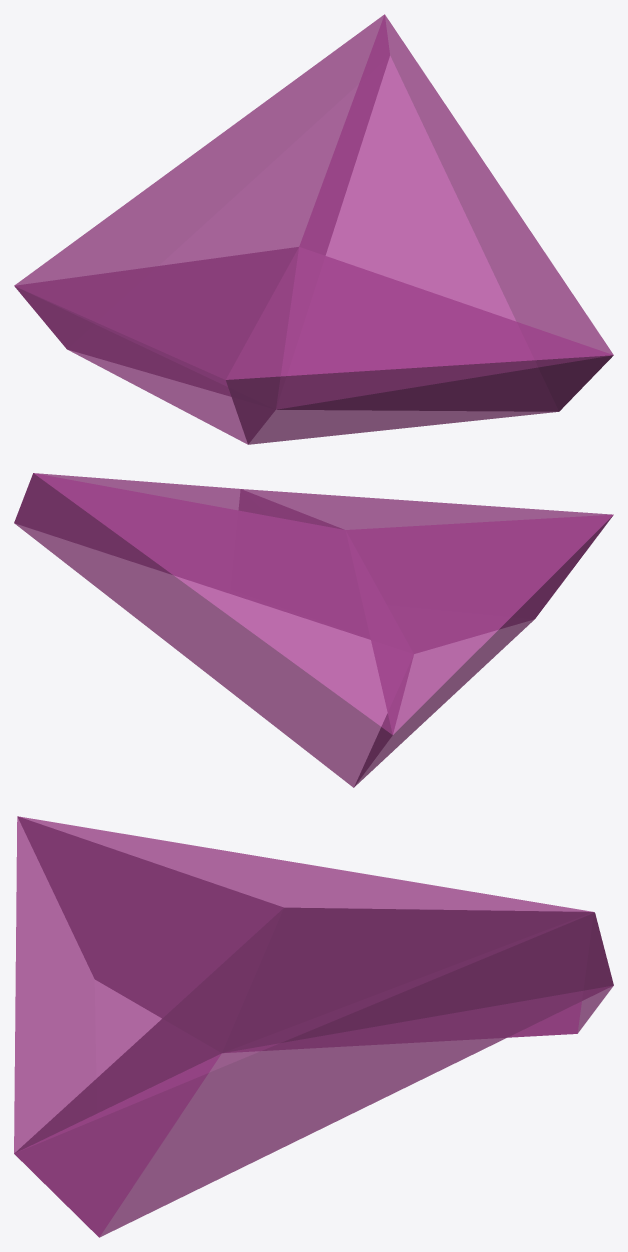
The model's file is SM_Bld_Roof_Edge_Corner_01_Collision_01.fbx.
The picture shows the model from 3 angles, top to bottom: view 1: azimuth 30°, elevation 25°; view 2: azimuth 150°, elevation 25°; view 3: azimuth 270°, elevation 25°; orthographic projection. The views are drawn at different scales.
Visible parts, largest first — view 1: SM_Bld_Roof_Edge_Corner_01_Collision_01; view 2: SM_Bld_Roof_Edge_Corner_01_Collision_01; view 3: SM_Bld_Roof_Edge_Corner_01_Collision_01.
Part boxes in pixels (box(x1,y1,x2,y2)): SM_Bld_Roof_Edge_Corner_01_Collision_01: box(14, 14, 613, 444); SM_Bld_Roof_Edge_Corner_01_Collision_01: box(14, 473, 613, 787); SM_Bld_Roof_Edge_Corner_01_Collision_01: box(14, 816, 613, 1237).
Size of the model in its own units: 283 by 176 by 286.
